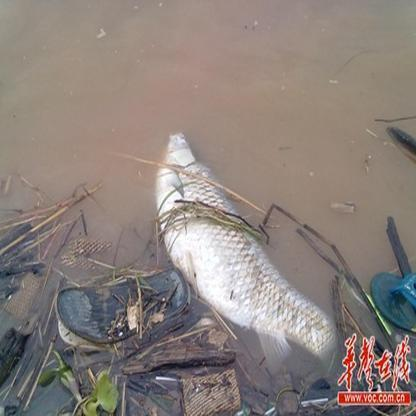deceased fish: (156, 129, 341, 356)
